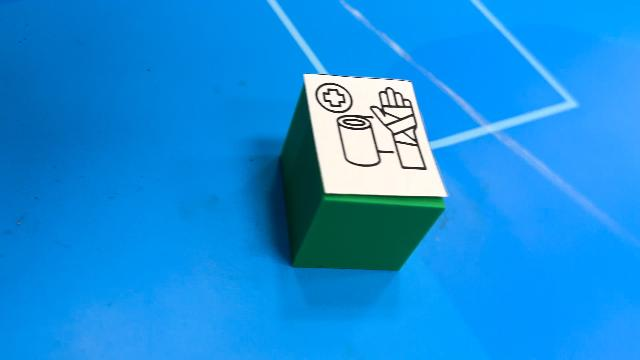bandage: (279, 73, 449, 271)
